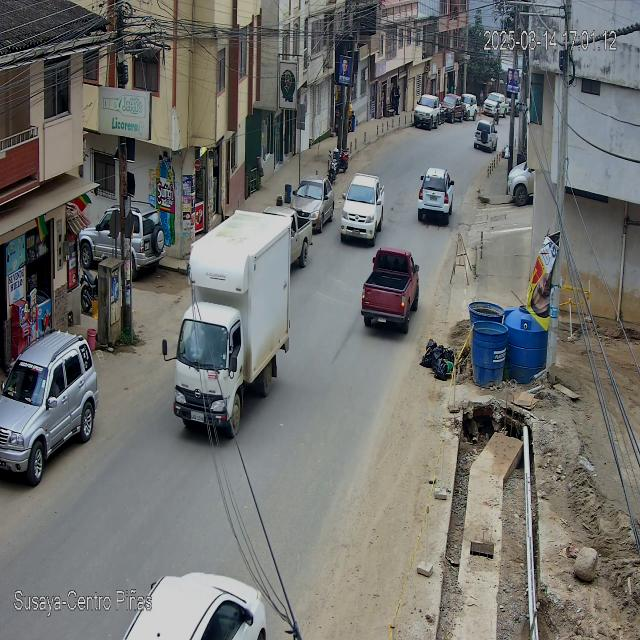CMT: (361, 248, 419, 334), (340, 173, 384, 248)
TRUCK: (174, 211, 292, 446)
